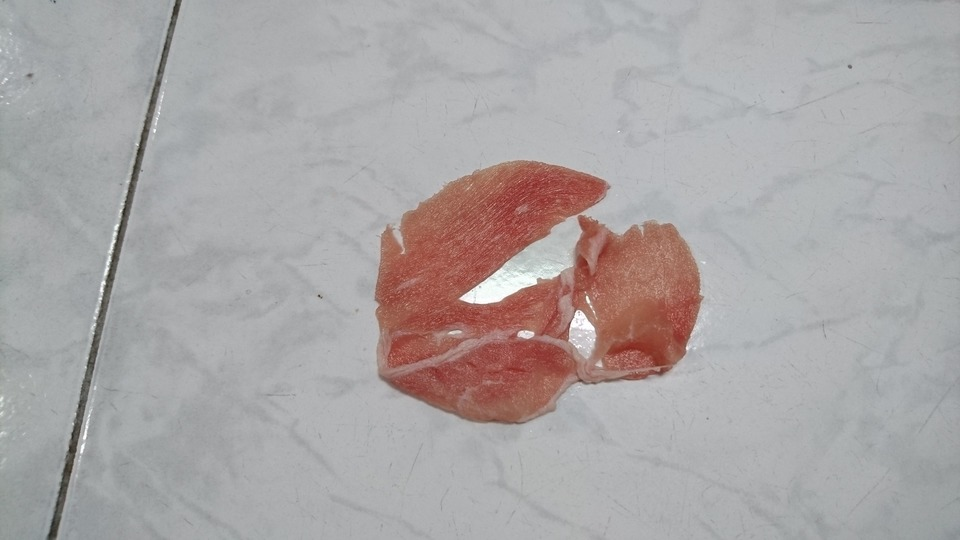restructured meat: (374, 158, 707, 427)
